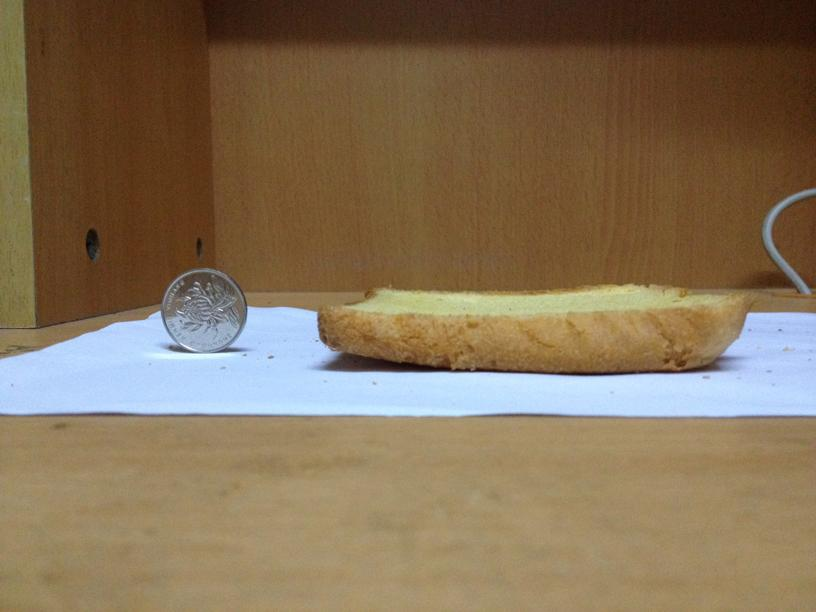bread: (313, 280, 745, 370)
coin: (161, 271, 246, 352)
